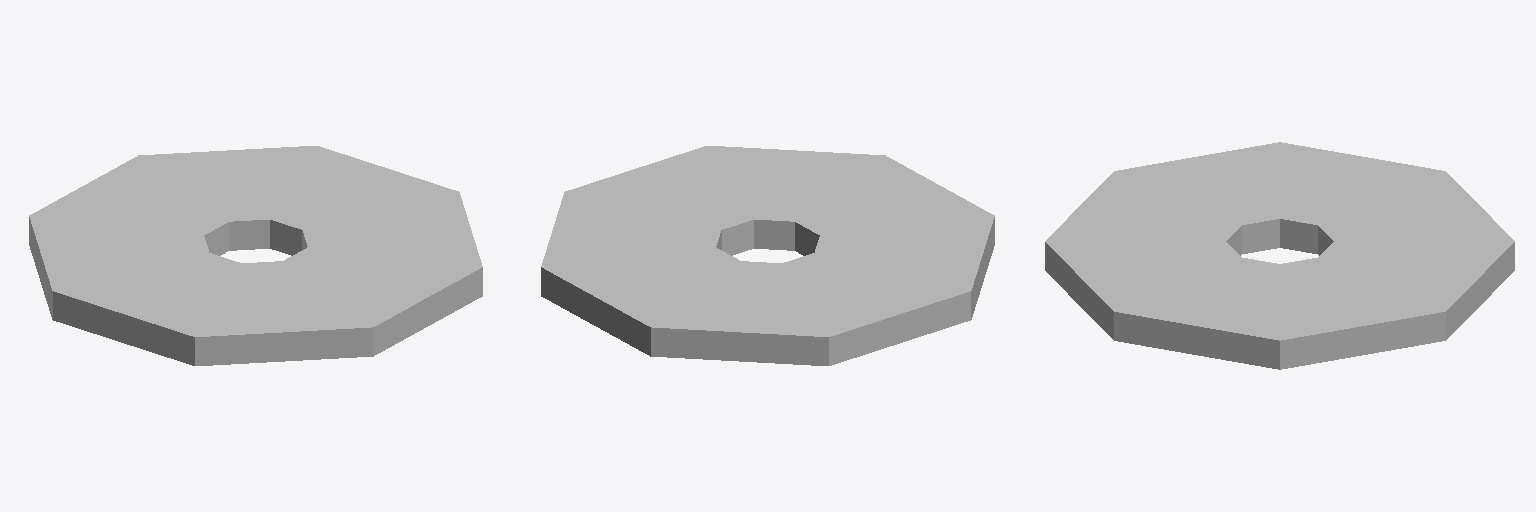
The picture shows the model from 3 angles: view 1: azimuth 30°, elevation 25°; view 2: azimuth 150°, elevation 25°; view 3: azimuth 270°, elevation 25°; orthographic projection.
Visible parts, largest first — view 1: CD; view 2: CD; view 3: CD.
Part boxes in pixels (x1,y1,x2,y2): CD: (29,146,482,365); CD: (541,146,994,365); CD: (1045,142,1514,369).
Bounding box in the file's own units: 5.22 × 0.3573 × 5.22.